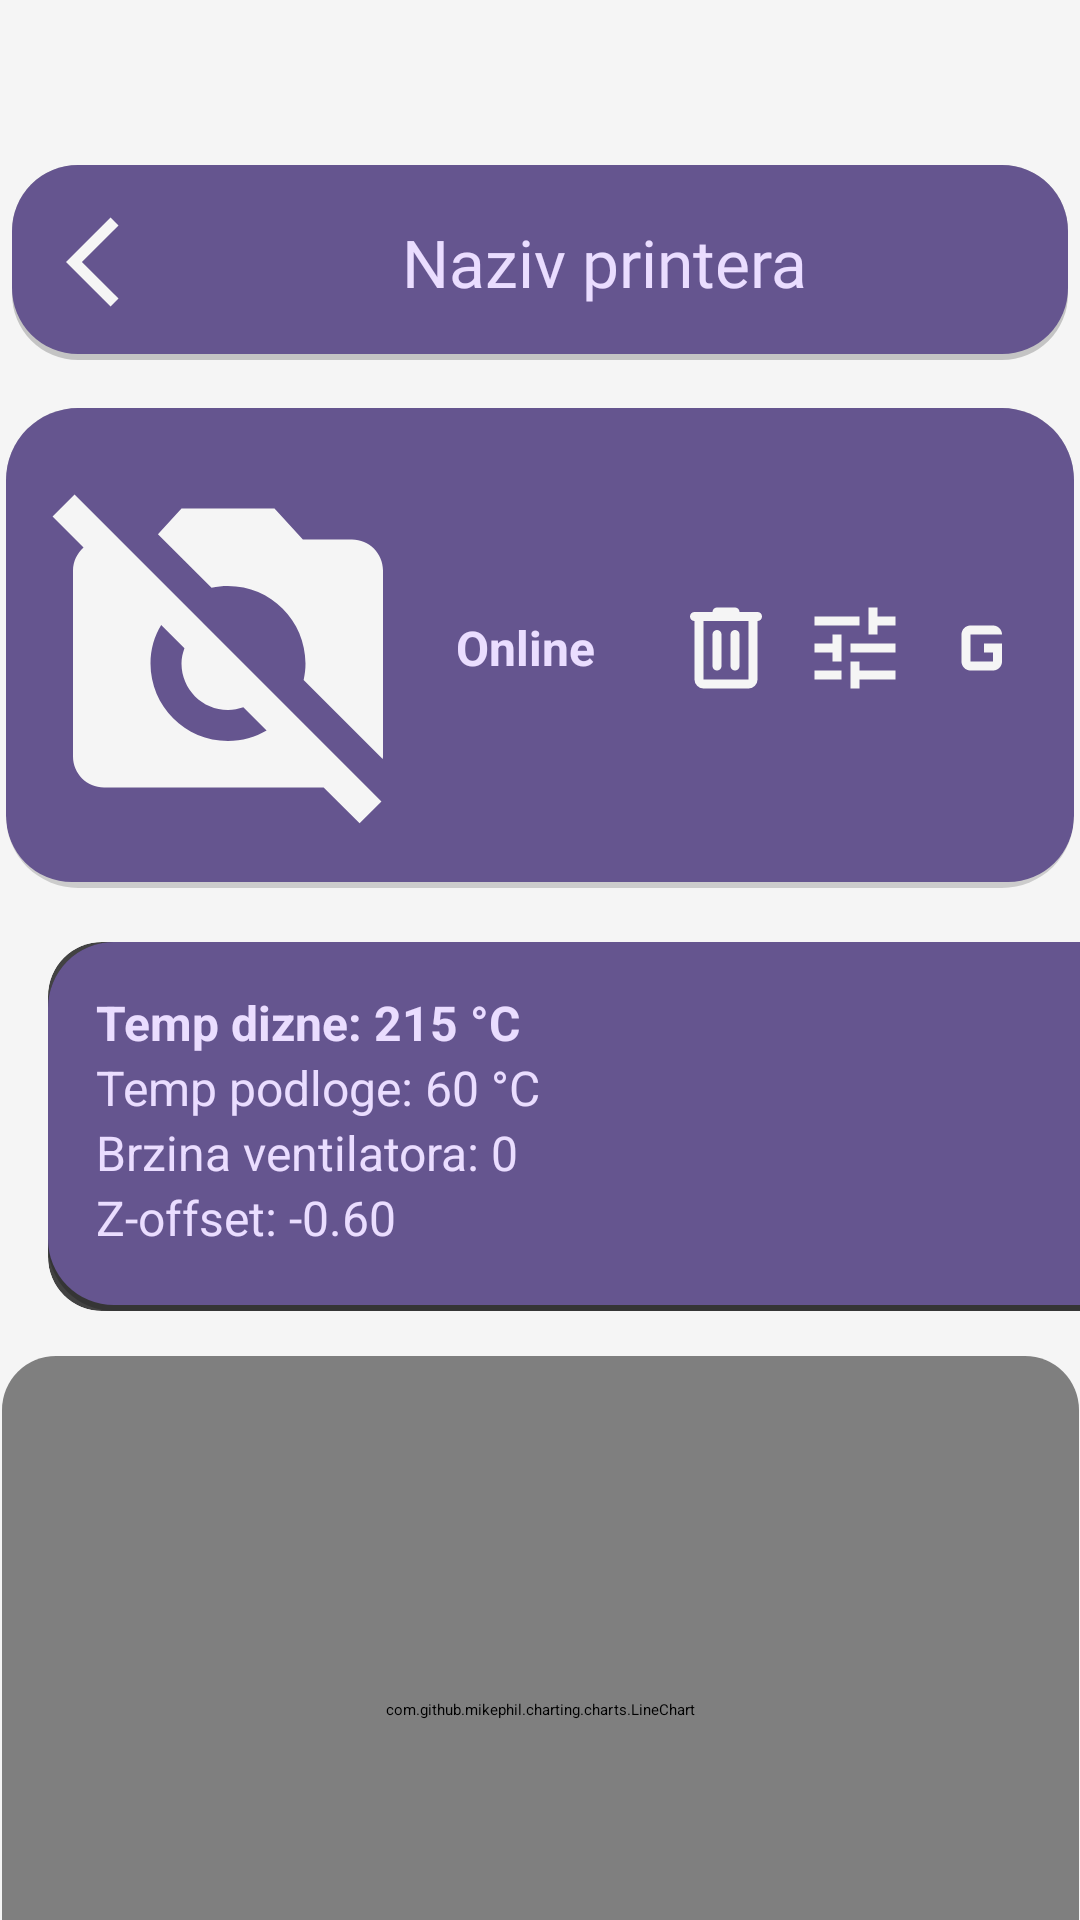

Locate icon controls on the screen. Image size 1080×1920, boxes as (x1, y1, x2, y2).
arrow back: (66, 217, 119, 307)
delete: (690, 607, 762, 689)
no photography: (52, 494, 383, 823)
tune: (814, 607, 896, 689)
